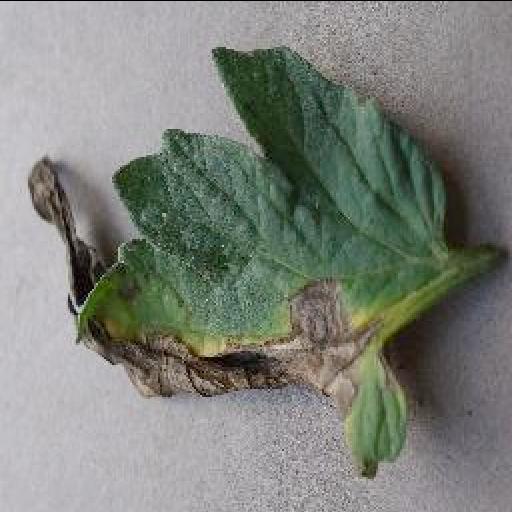disease_tomato: (70, 44, 460, 482)
